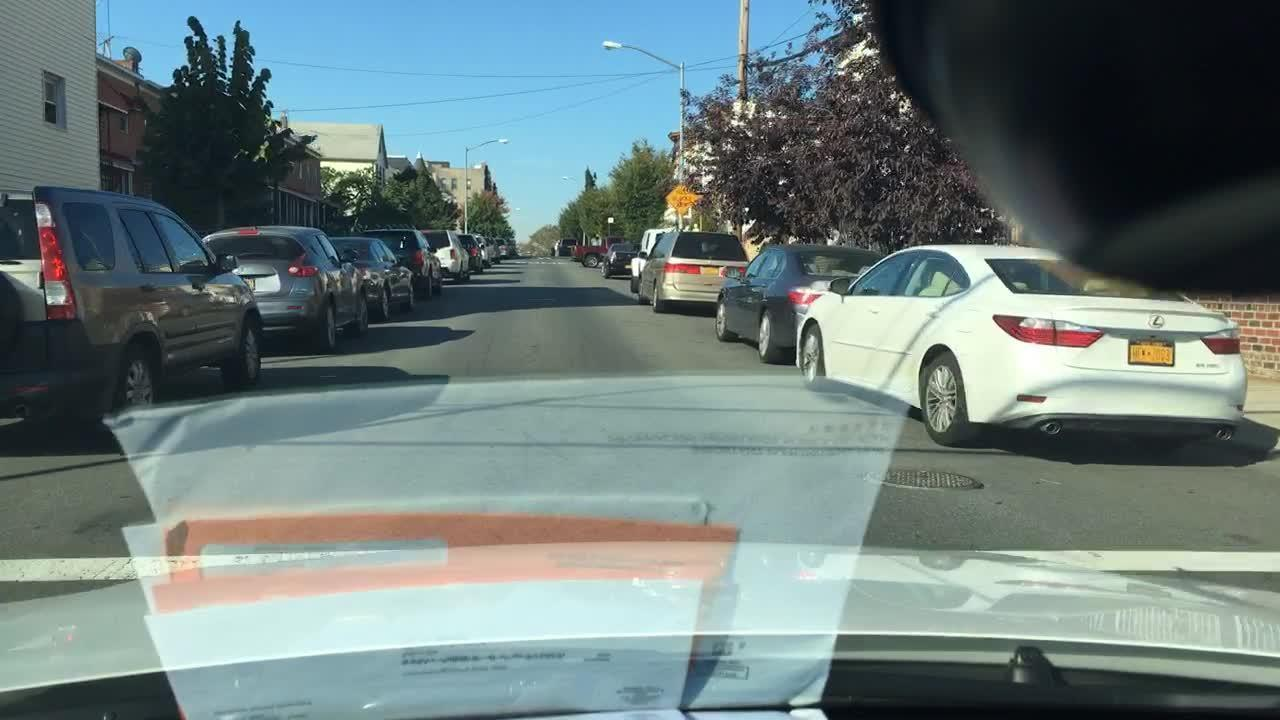lexus: (1149, 314, 1165, 329)
